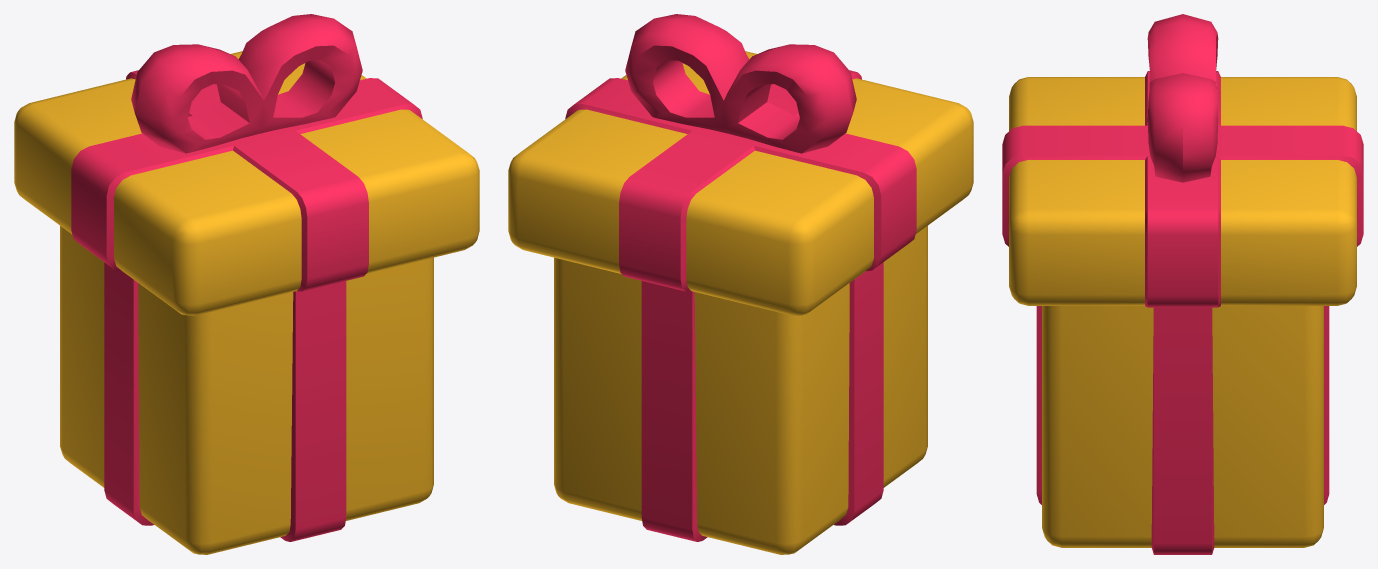
The model's file is giftB.gltf.glb.
3 renders of one model, left to right at view 1: azimuth 30°, elevation 25°; view 2: azimuth 150°, elevation 25°; view 3: azimuth 270°, elevation 25°, orthographic.
Parts seen in each view (by area): view 1: giftB; view 2: giftB; view 3: giftB.
Boxes of the visible parts, x1=… form: giftB: x1=14, y1=14, x2=479, y2=554; giftB: x1=508, y1=14, x2=973, y2=554; giftB: x1=1002, y1=14, x2=1363, y2=554.
Bounding box in the file's own units: 1.03 × 1.4 × 1.03.
